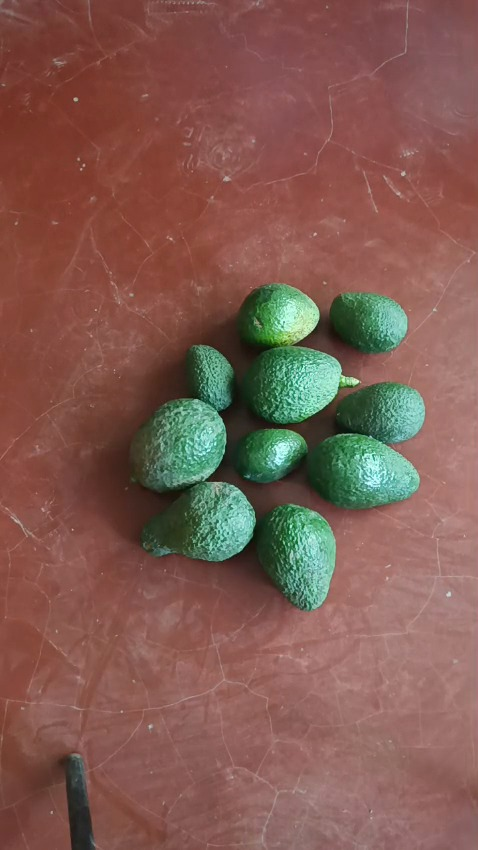Primera: (129, 398, 228, 491), (141, 481, 256, 561), (253, 504, 336, 612), (305, 434, 421, 508), (240, 346, 342, 423)
Segunda: (334, 381, 426, 443), (236, 283, 319, 348)
Tercera: (329, 291, 408, 353), (232, 428, 308, 483), (184, 344, 237, 412)
